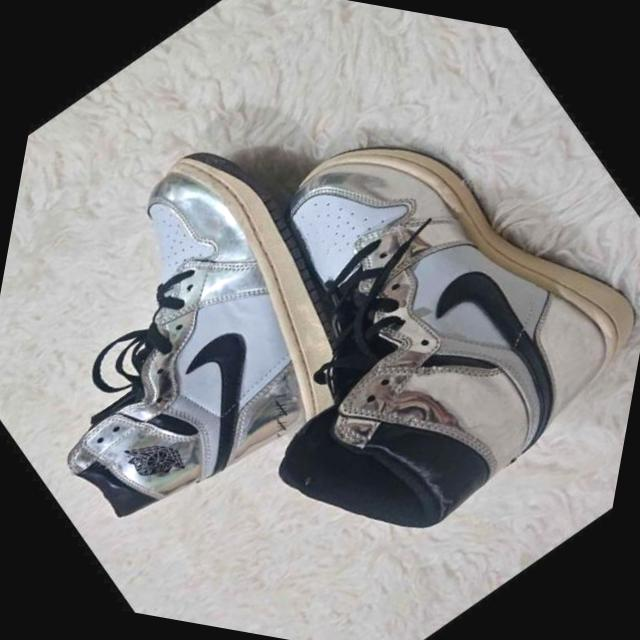nike_fake_jordan: (98, 12, 640, 626), (0, 92, 425, 591)
